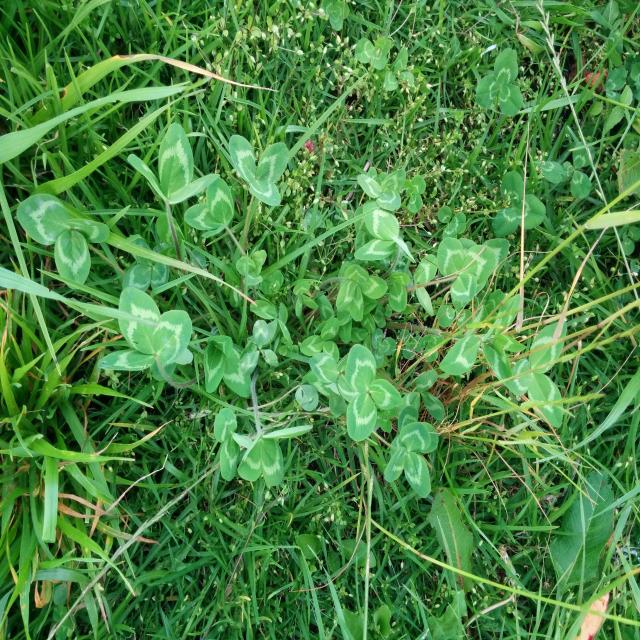Four Leaf Clover: (335, 264, 388, 321)
